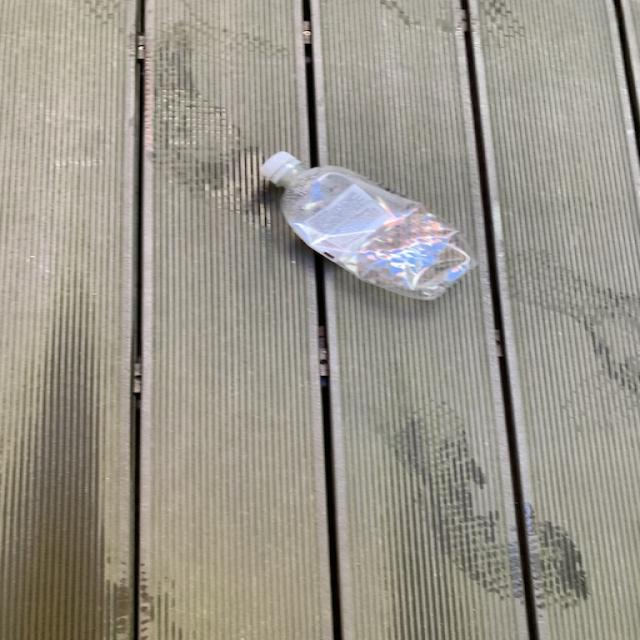Waste: (261, 151, 472, 299)
